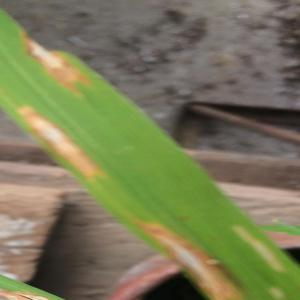Rice_Blast: (9, 96, 112, 191), (135, 211, 248, 297), (16, 16, 99, 93)
